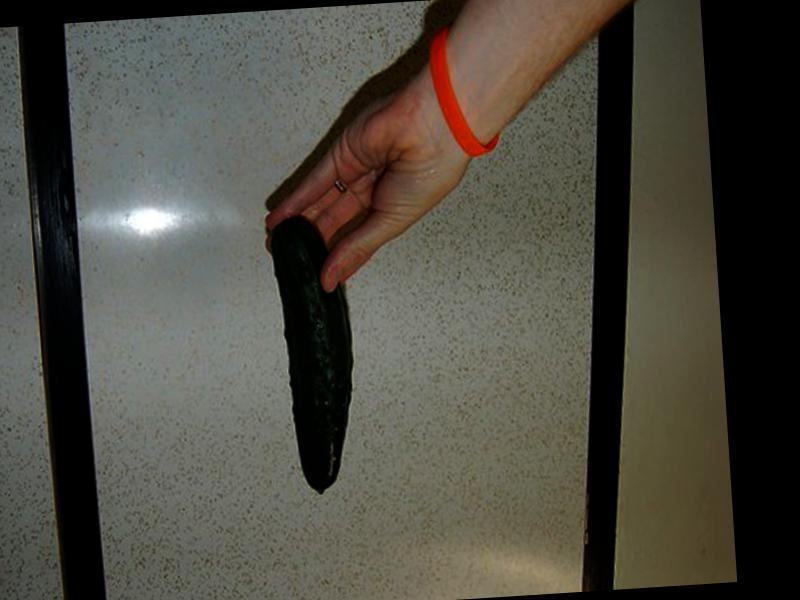Cucumber: (268, 213, 358, 497)
